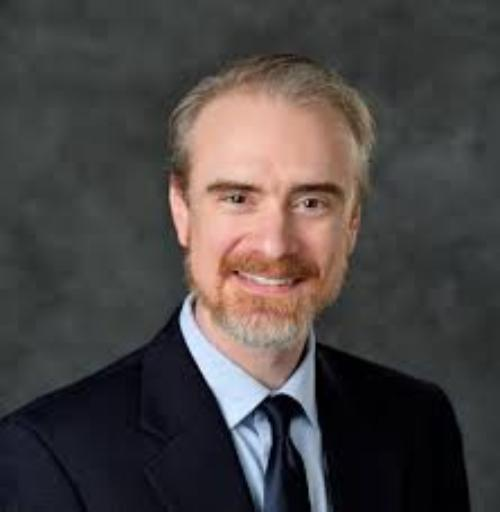left_eye: (292, 197, 335, 217)
left_lip_corner: (298, 272, 315, 291)
right_eye: (215, 192, 259, 211)
right_lip_corner: (225, 265, 243, 287)
